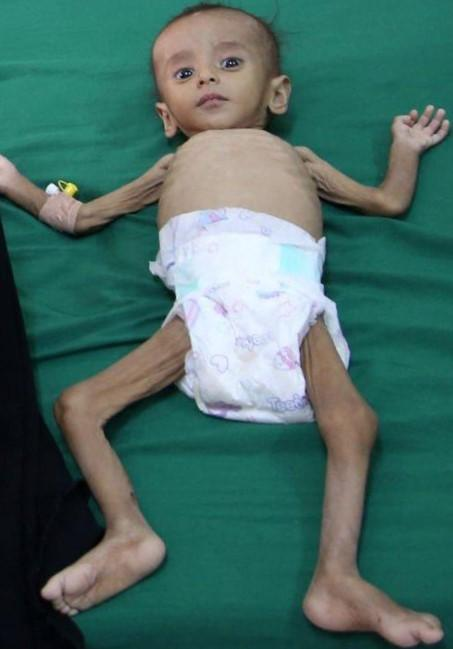Stunting: (115, 0, 327, 148)
